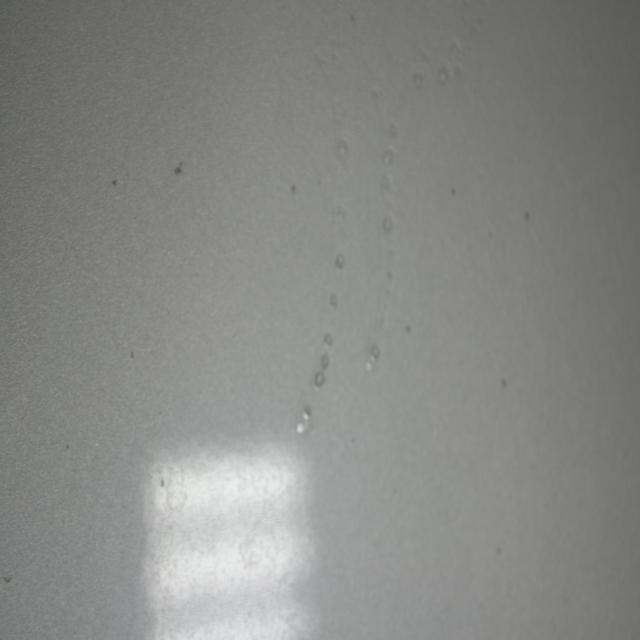dirt: (170, 157, 185, 179), (499, 367, 509, 392), (492, 542, 503, 559), (288, 180, 300, 195), (158, 468, 165, 492), (523, 203, 530, 225), (448, 183, 458, 197), (110, 175, 118, 191), (403, 322, 412, 336), (3, 571, 12, 585), (128, 347, 136, 360), (64, 441, 69, 452)
runs: (224, 10, 490, 441)
